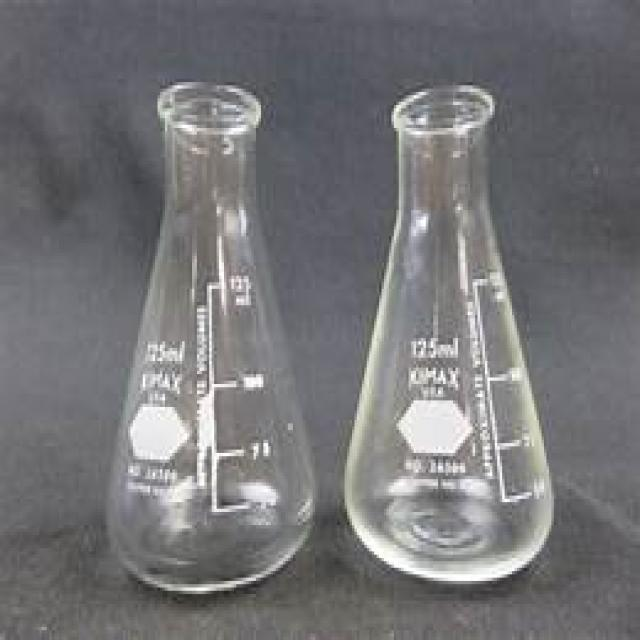Titrarion: (97, 66, 314, 591), (345, 89, 555, 579)
